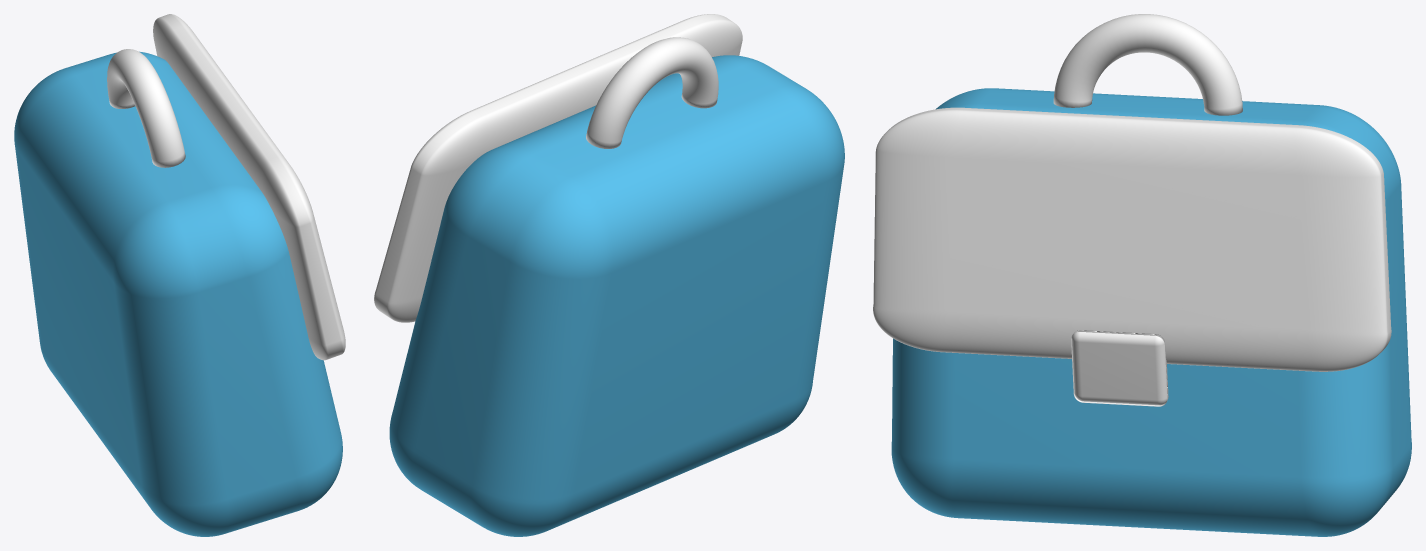
File: bedrijf-en-organisatie.glb
3 views of the same model, side by side, from view 1: azimuth 30°, elevation 25°; view 2: azimuth 150°, elevation 25°; view 3: azimuth 270°, elevation 25° (orthographic). The views are drawn at different scales.
Parts seen in each view (by area): view 1: base/color, front/glass, handle/glass; view 2: base/color, front/glass, handle/glass; view 3: front/glass, base/color, handle/glass, close/glass.
Part boxes in pixels (<box>): base/color: <box>14,51,342,536</box>; front/glass: <box>153,14,345,360</box>; handle/glass: <box>107,49,185,167</box>; base/color: <box>389,55,844,536</box>; front/glass: <box>374,14,742,322</box>; handle/glass: <box>586,37,718,148</box>; front/glass: <box>873,107,1391,371</box>; base/color: <box>891,88,1411,536</box>; handle/glass: <box>1053,14,1242,115</box>; close/glass: <box>1071,330,1168,406</box>.
Bounding box in the file's own units: 1.33 × 2.02 × 2.07.
